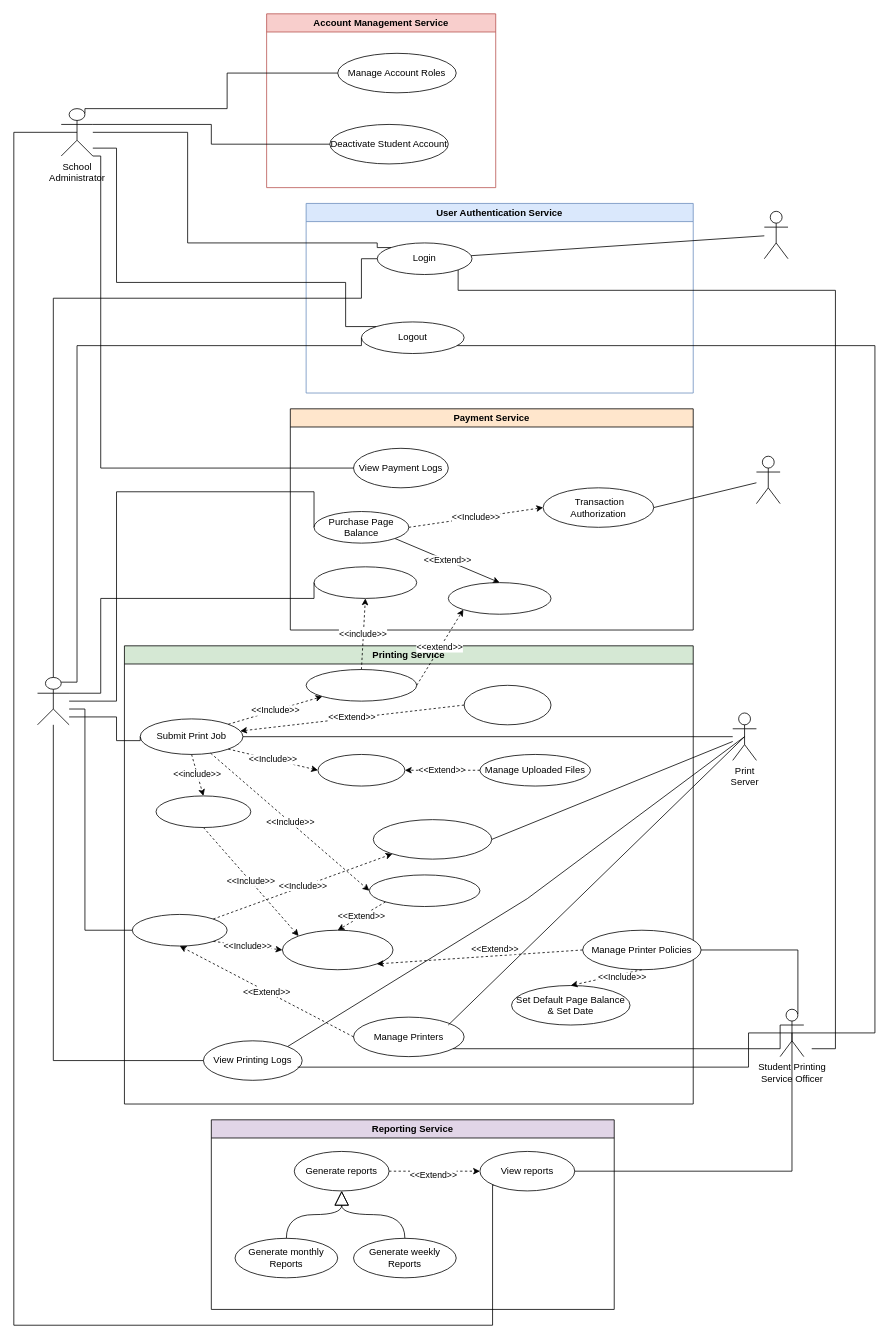
Image size: 890x1340. Some labels were removed from this diagram. The centre of each missing label's shape, as x and y in pixels:
BKPay: point 768,479
Get Current Page Balance: point 365,582
Get Printers Policies: point 337,949
HCMUT_SSO: point 776,235
List Printers in Network: point 432,839
Select Printing Properties: point 203,811
Student: point 53,701
Update Page Balance: point 499,598
Upload File: point 361,770
Validate Page Balance: point 361,685
Validate Printer Policies: point 424,890
View Current Printing Status: point 507,705
View Printers: point 179,930
